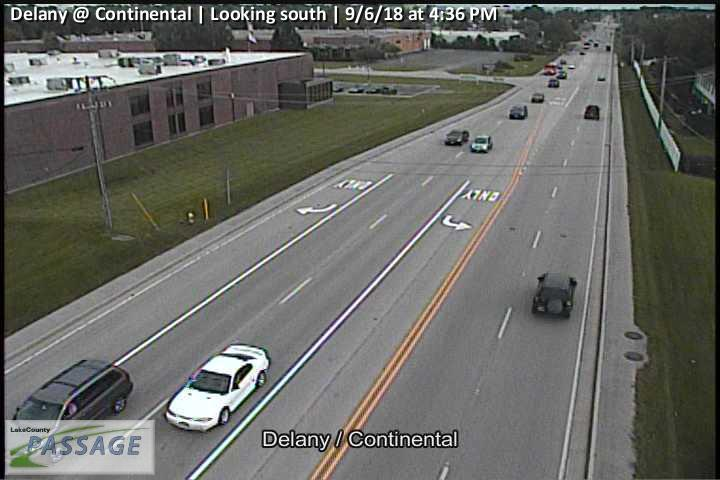SUV: (7, 359, 133, 456), (532, 272, 578, 317), (471, 134, 493, 153), (508, 103, 527, 120), (584, 104, 599, 119)
Sedan: (164, 342, 270, 432), (445, 128, 469, 146), (531, 92, 544, 103)
